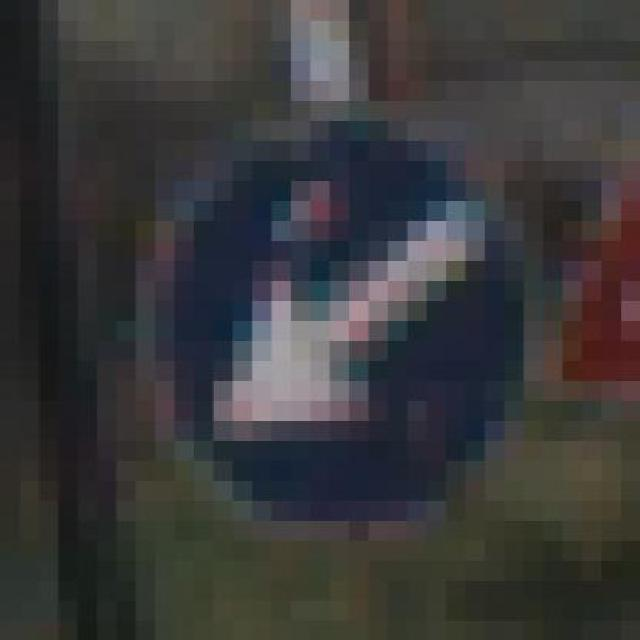Keep-Left: (97, 100, 563, 560)
